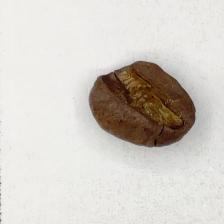NG: (92, 62, 184, 133)
